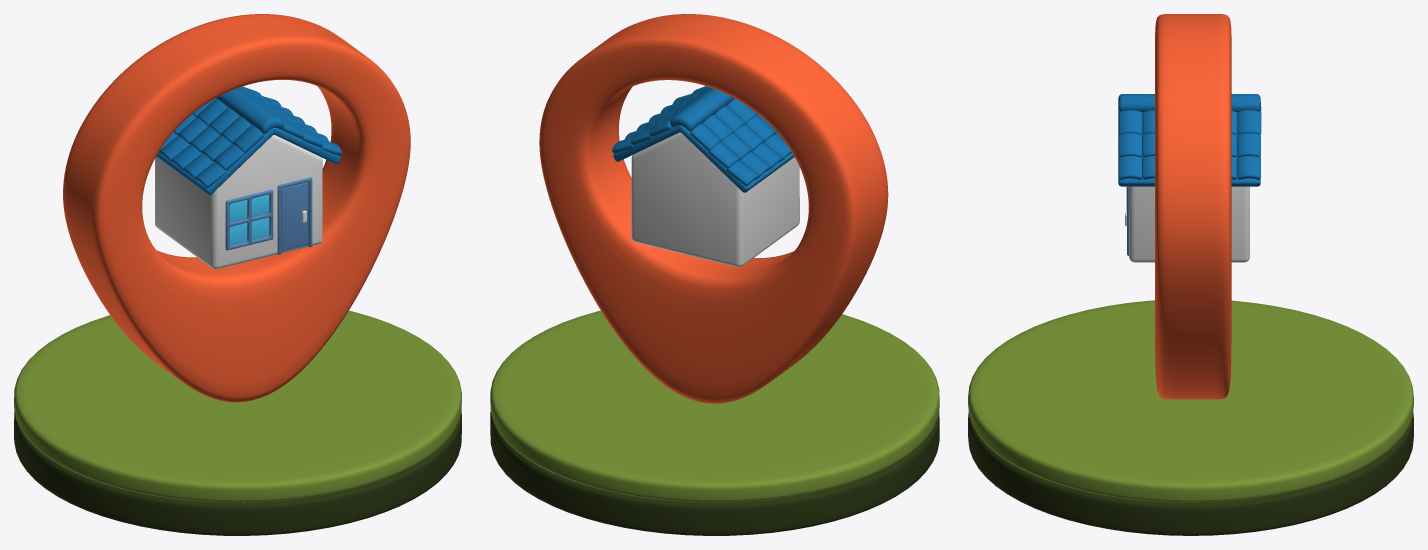
Rendered from finding-property-animated-3d-icon-1044543396860.glb.
The picture shows the model from 3 angles, left to right: view 1: azimuth 30°, elevation 25°; view 2: azimuth 150°, elevation 25°; view 3: azimuth 270°, elevation 25°; orthographic projection.
Parts seen in each view (by area): view 1: Location, Grass.002, Land.002, Home.005, Roof 1.002, Door.005, Roof 2.002, Window Glass 1.002, Window Frame 1.002, Door Frame.002; view 2: Location, Grass.002, Home.005, Land.002, Roof 1.002, Roof 2.002; view 3: Grass.002, Location, Land.002, Roof 1.002, Home.005, Roof 2.002.
Boxes of the visible parts, box(x1,y1,x2,y2) form: Location: box(63, 14, 410, 402); Grass.002: box(14, 310, 461, 502); Land.002: box(14, 411, 461, 535); Home.005: box(155, 135, 322, 269); Roof 1.002: box(158, 86, 341, 187); Door.005: box(281, 182, 308, 251); Roof 2.002: box(156, 125, 340, 194); Window Glass 1.002: box(229, 194, 269, 245); Window Frame 1.002: box(225, 189, 273, 250); Door Frame.002: box(277, 177, 312, 254); Location: box(539, 14, 888, 403); Grass.002: box(490, 310, 939, 502); Home.005: box(631, 132, 799, 267); Land.002: box(490, 410, 939, 535); Roof 1.002: box(612, 86, 791, 186); Roof 2.002: box(613, 105, 794, 192); Grass.002: box(968, 300, 1413, 502); Location: box(1155, 14, 1231, 399); Land.002: box(968, 412, 1413, 535); Roof 1.002: box(1118, 94, 1261, 179); Home.005: box(1129, 186, 1249, 262); Roof 2.002: box(1118, 108, 1260, 186).
Bounding box in the file's own units: 1.99 × 2.01 × 1.99.
